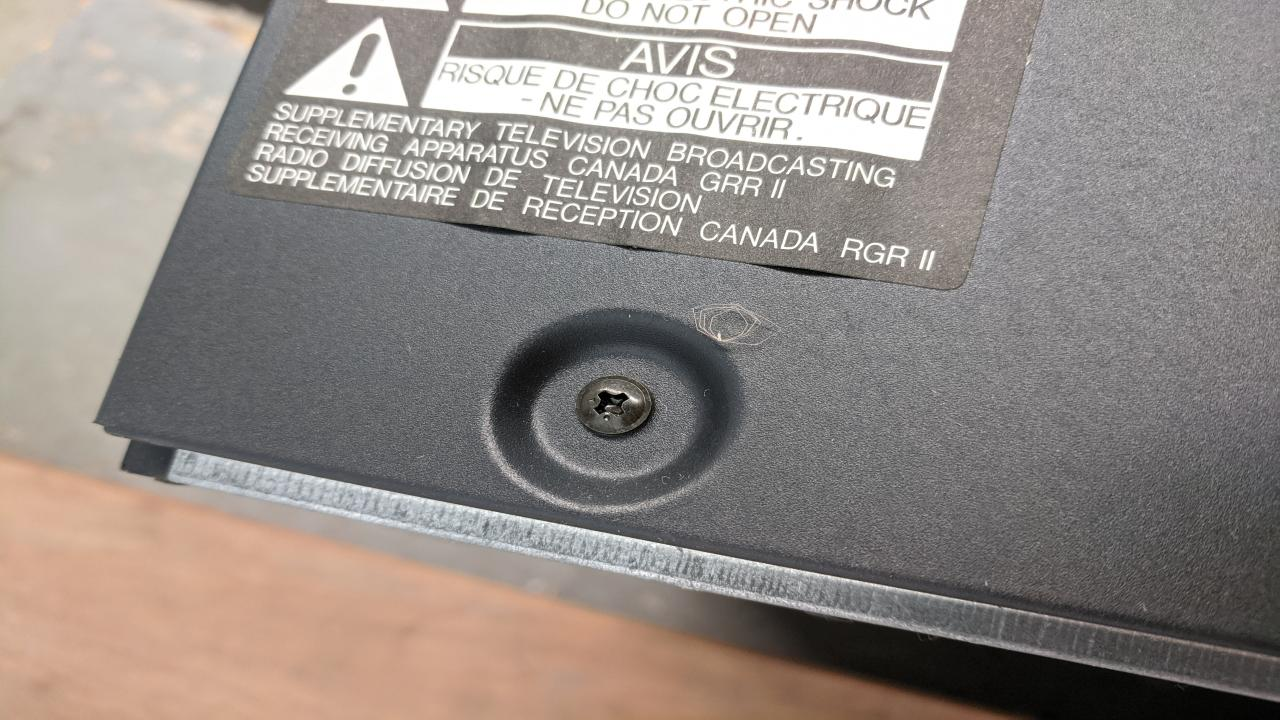CRS: (571, 373, 652, 436)
